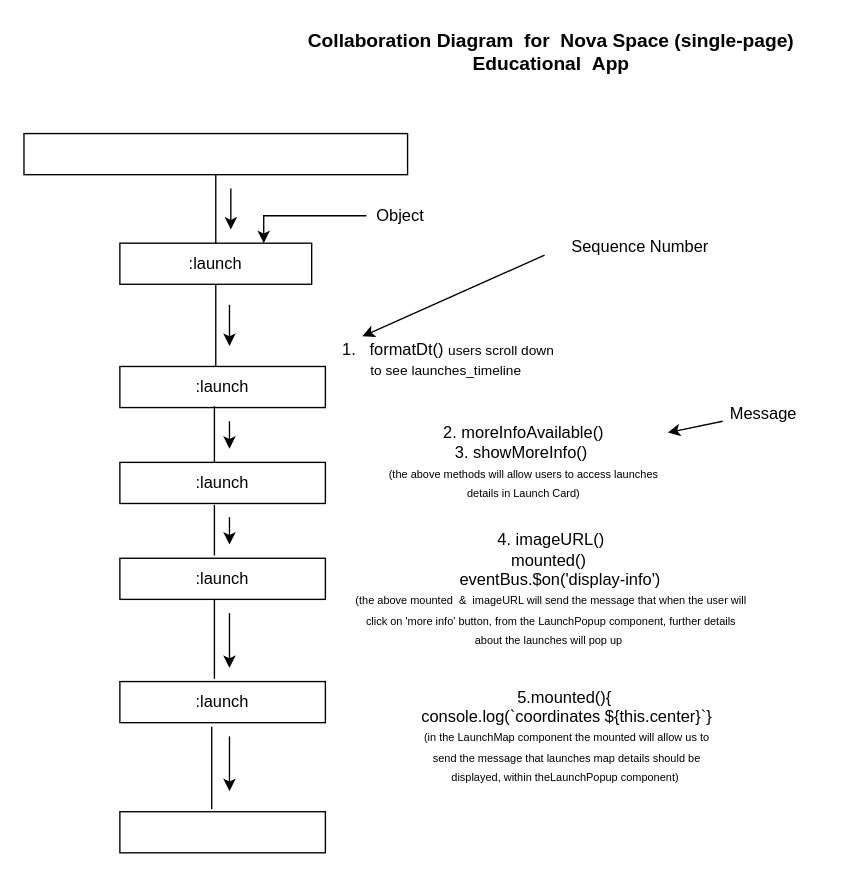
Some shapes in this 856 by 877 pixel diagram are drawn without their labels. The box of each missing label's shape, as (x1, y1, x2, y2) in pixels:
End of process: (119, 810, 325, 853)
Initialization: (23, 132, 408, 175)
